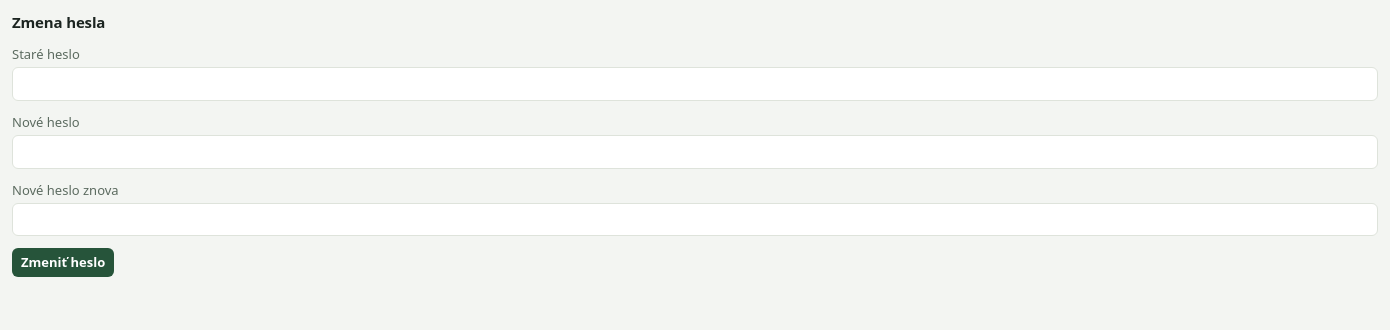
Test: úspešná zmena ukáže potvrdenie a vyprázdni polia
Type "stare-heslo" into the password field labelled "Staré heslo".
click(695, 84); type("stare-heslo")  # box left=12, top=67, right=1378, bottom=101
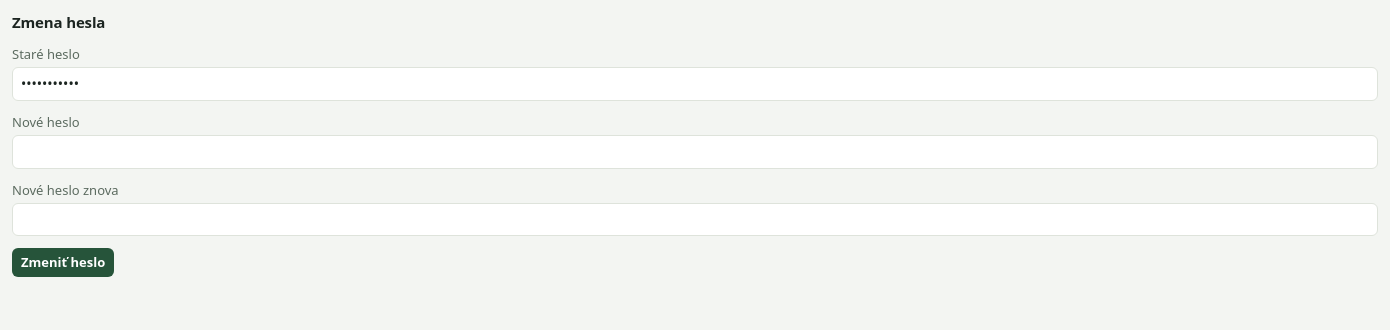
Type "nove-heslo-123" into the password field labelled "Nové heslo".
click(695, 152); type("nove-heslo-123")  # box left=12, top=135, right=1378, bottom=169
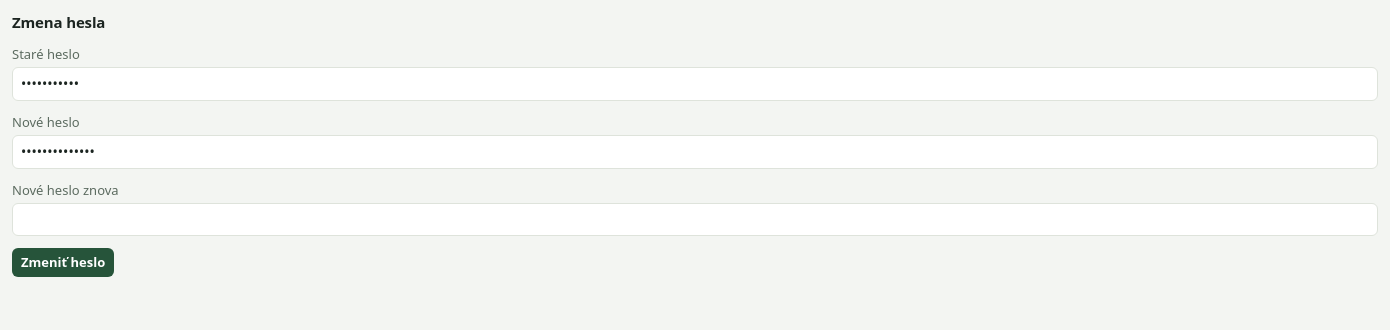
Type "nove-heslo-123" into the password field labelled "Nové heslo znova".
click(695, 220); type("nove-heslo-123")  # box left=12, top=203, right=1378, bottom=236
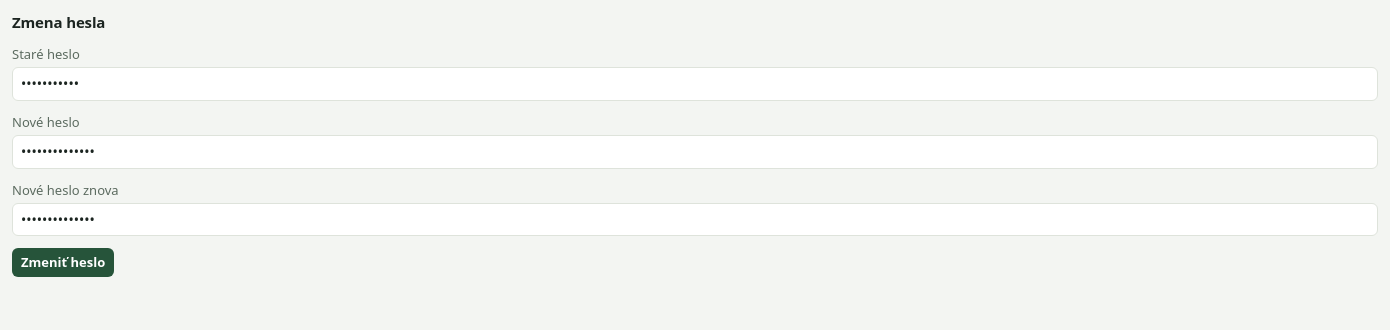
Click the button "Zmeniť heslo".
click(63, 262)  # box left=12, top=248, right=114, bottom=276
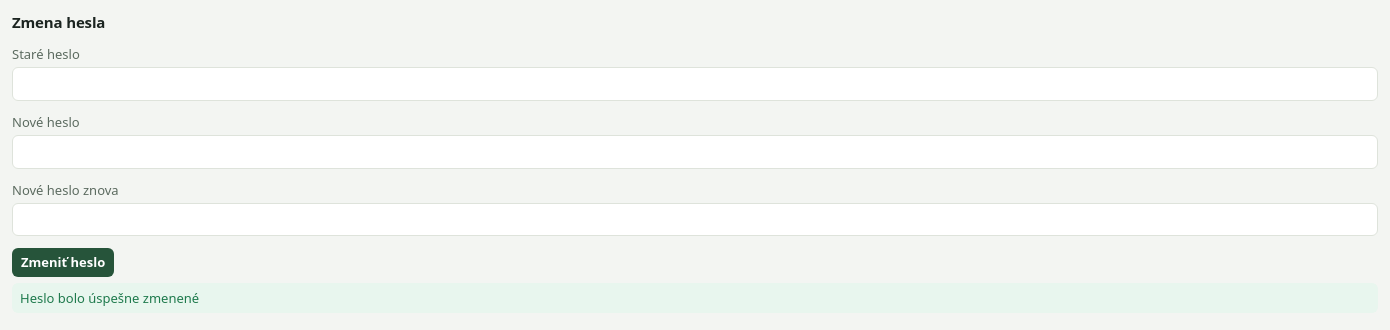
Check: the message "Heslo bolo úspešne zmenené" is shown, box left=12, top=282, right=1378, bottom=313
Check: the password field labelled "Staré heslo" is empty, box left=12, top=67, right=1378, bottom=101
Check: the password field labelled "Nové heslo" is empty, box left=12, top=135, right=1378, bottom=169
